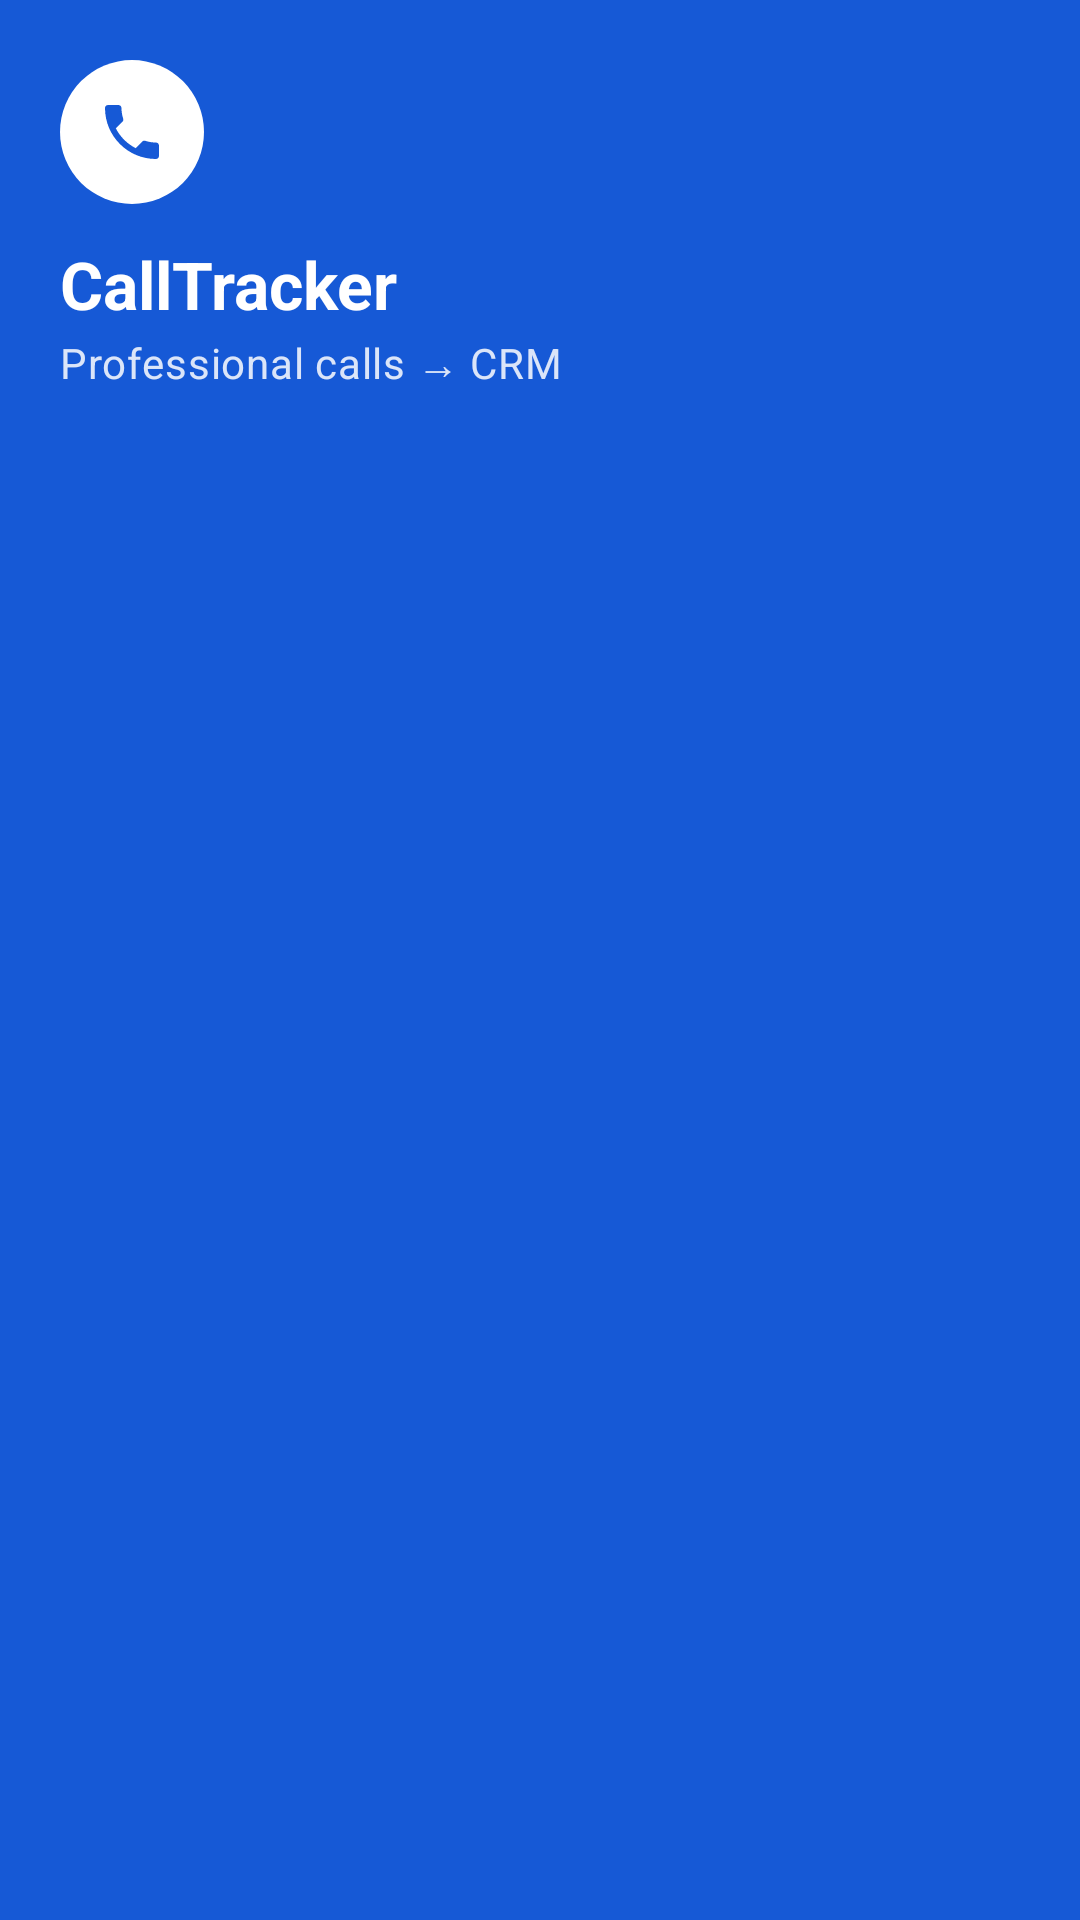

Icon bounding boxes for this 1080*1920 phone screenshot, format [x1,y1,x2,y2]:
phone: [60,60,204,204]
